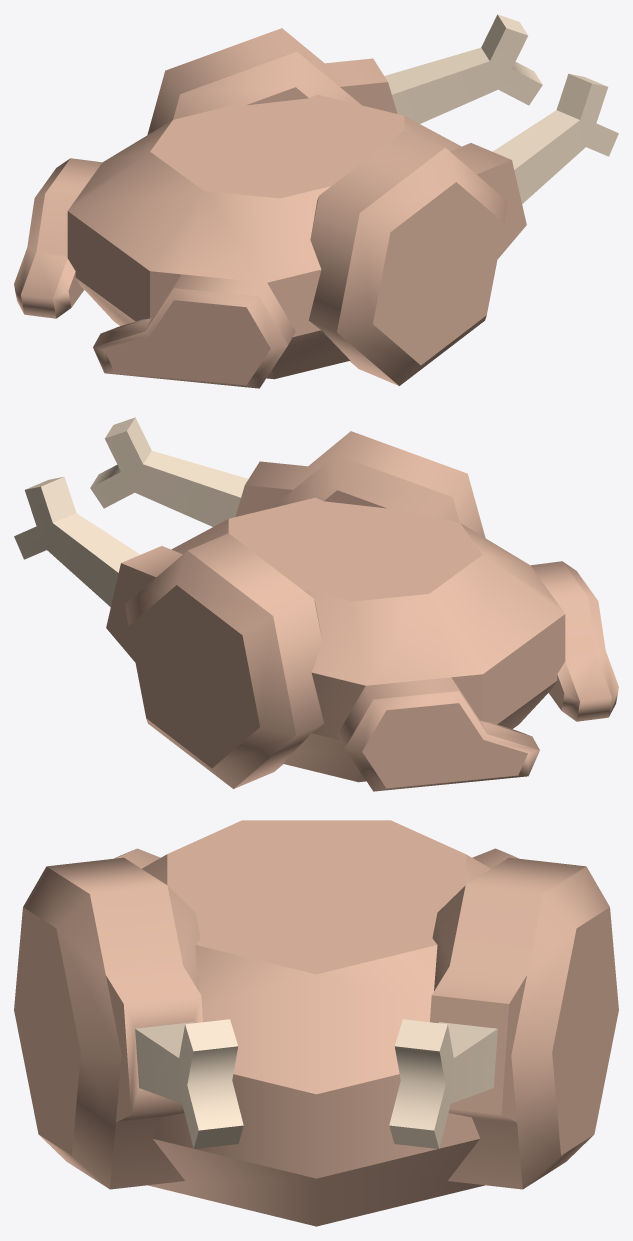
File: turkey.fbx
The picture shows the model from 3 angles, top to bottom: view 1: azimuth 30°, elevation 25°; view 2: azimuth 150°, elevation 25°; view 3: azimuth 270°, elevation 25°; orthographic projection. The views are drawn at different scales.
Parts seen in each view (by area): view 1: turkey, leg, leg.001; view 2: turkey, leg.001, leg; view 3: turkey, leg, leg.001.
Boxes of the visible parts, x1=… form: turkey: x1=14, y1=94, x2=461, y2=388; leg: x1=308, y1=73, x2=618, y2=385; leg.001: x1=147, y1=14, x2=542, y2=134; turkey: x1=171, y1=497, x2=618, y2=791; leg.001: x1=14, y1=476, x2=324, y2=788; leg: x1=90, y1=417, x2=485, y2=537; turkey: x1=114, y1=820, x2=518, y2=1226; leg: x1=14, y1=857, x2=243, y2=1189; leg.001: x1=389, y1=857, x2=618, y2=1189.
Size of the model in its own units: 93.48 by 37.69 by 67.9.
